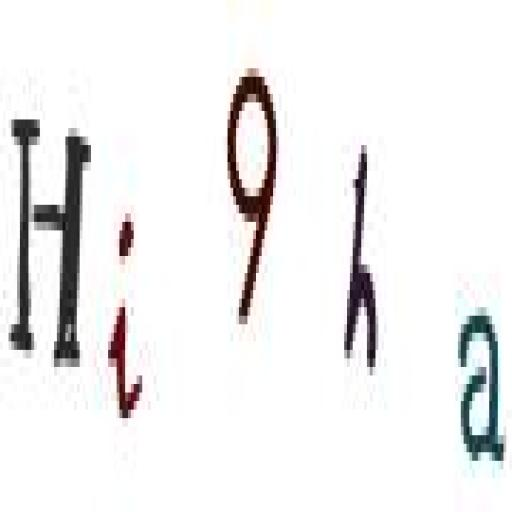9: (219, 48, 280, 346)
H: (8, 101, 95, 385)
a: (454, 299, 511, 481)
h: (339, 118, 384, 398)
i: (103, 199, 146, 443)
